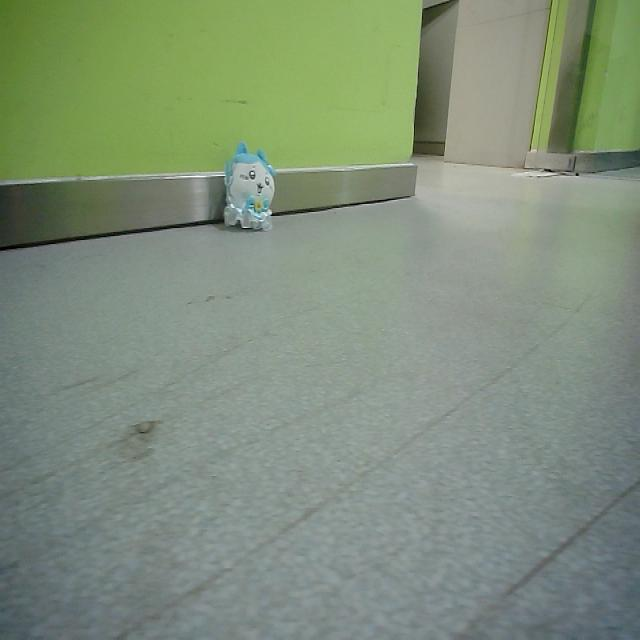xiaoba: (220, 140, 277, 233)
